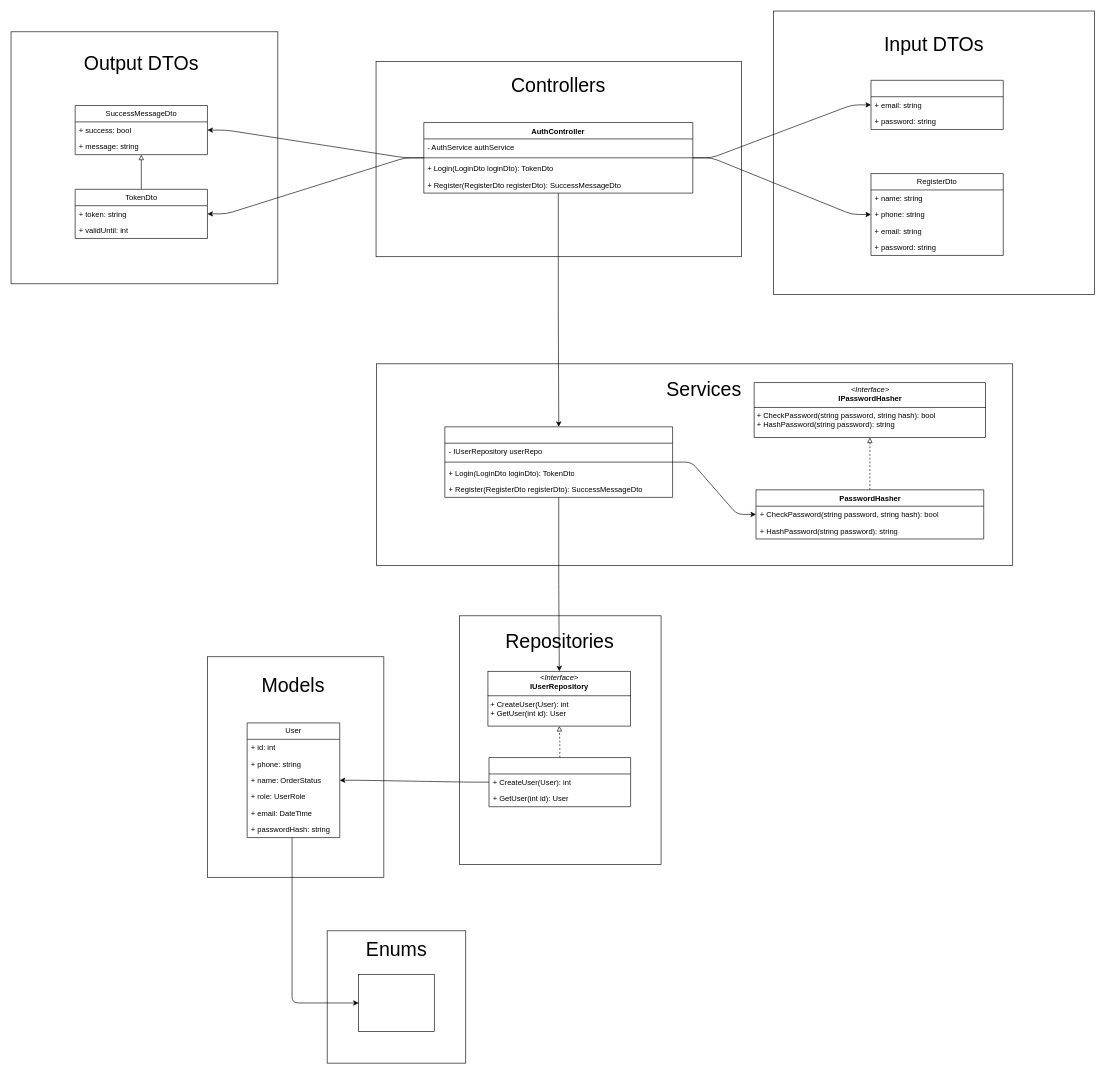
The diagram is 1106 pixels wide and 1074 high, and some of its shapes have lost their labels. The box of each missing label's shape, as (x1, y1, x2, y2) in pixels:
<Enum> UserRole - "employee" - "customer": (358, 974, 434, 1032)
AuthService: (444, 426, 673, 497)
LoginDto: (870, 80, 1003, 129)
UserRepository: (488, 757, 631, 807)
